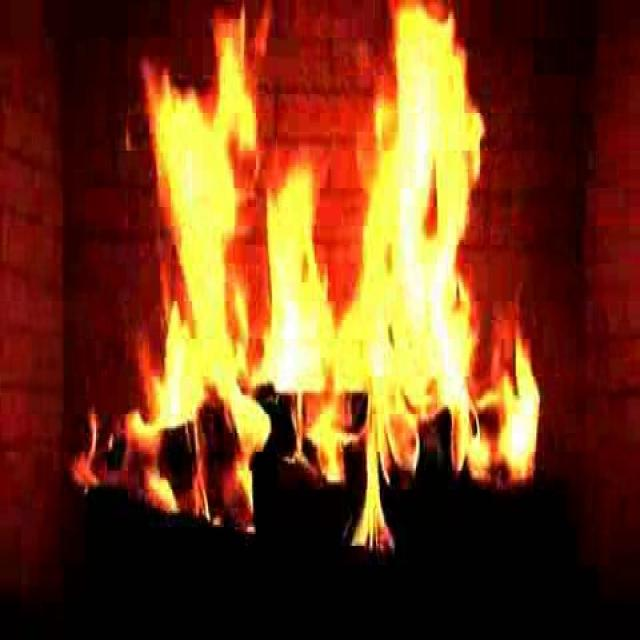fire: (134, 19, 530, 518)
